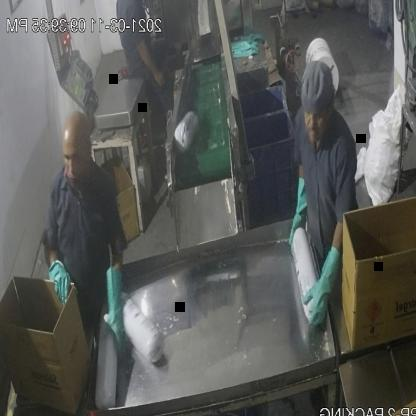glove: (96, 268, 134, 360), (303, 247, 341, 332), (40, 257, 79, 306)
no_glove: (133, 34, 168, 90)
